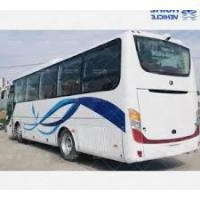bus: (11, 31, 197, 166)
